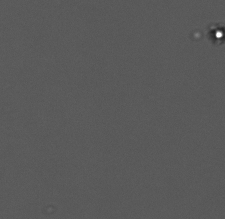Living Cell: (212, 26, 223, 41)
